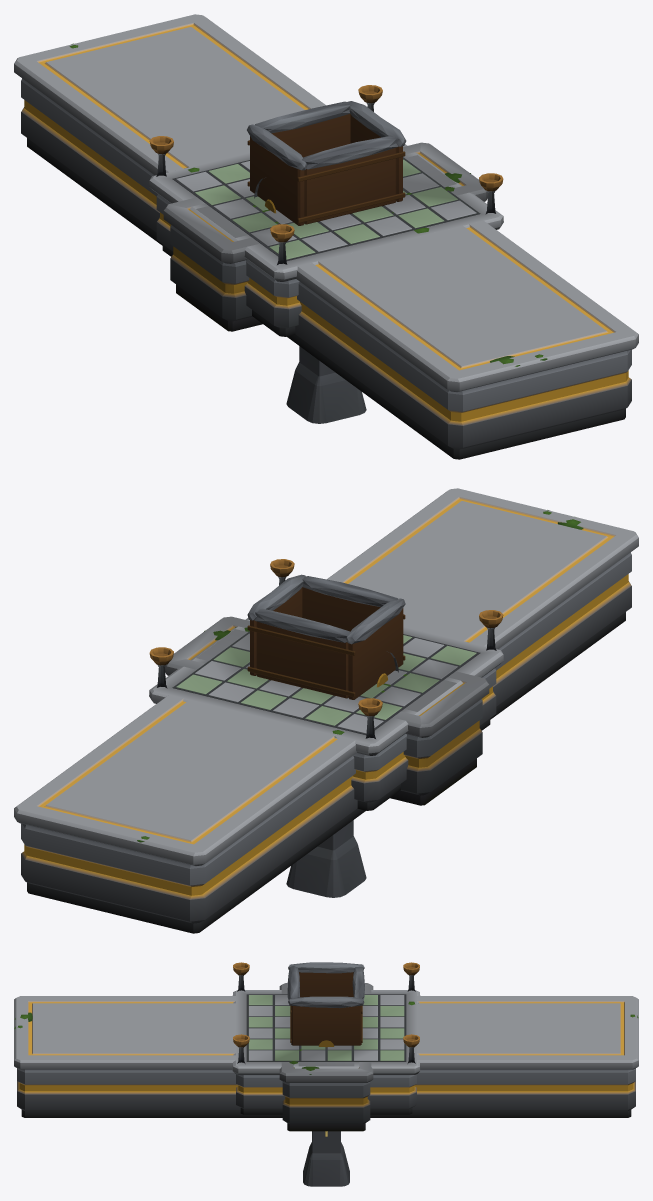
Rendered from temple-1-C3QStfsi.glb.
3 views of the same model, one above another, from view 1: azimuth 30°, elevation 25°; view 2: azimuth 150°, elevation 25°; view 3: azimuth 270°, elevation 25° (orthographic). The views are drawn at different scales.
Parts seen in each view (by area): view 1: block_10x2x40#0, pad_12x2x12#0, hopper_4x3#0, block_14x2x6#0, support_0_square#0; view 2: block_10x2x40#0, pad_12x2x12#0, hopper_4x3#0, block_14x2x6#0, support_0_square#0; view 3: block_10x2x40#0, pad_12x2x12#0, block_14x2x6#0, hopper_4x3#0, support_0_square#0.
Part boxes in pixels (box(x1,y1,x2,y2)): block_10x2x40#0: box(14, 14, 638, 459); pad_12x2x12#0: box(149, 85, 503, 336); hopper_4x3#0: box(247, 101, 406, 225); block_14x2x6#0: box(163, 142, 487, 331); support_0_square#0: box(286, 346, 366, 423); block_10x2x40#0: box(14, 488, 638, 933); pad_12x2x12#0: box(149, 559, 503, 810); hopper_4x3#0: box(247, 574, 405, 699); block_14x2x6#0: box(165, 616, 489, 805); support_0_square#0: box(286, 820, 366, 897); block_10x2x40#0: box(14, 996, 638, 1117); pad_12x2x12#0: box(232, 962, 420, 1114); block_14x2x6#0: box(279, 983, 373, 1131); hopper_4x3#0: box(287, 962, 364, 1045); support_0_square#0: box(303, 1131, 349, 1186).
Size of the model in its own units: 14 by 13.87 by 40.
